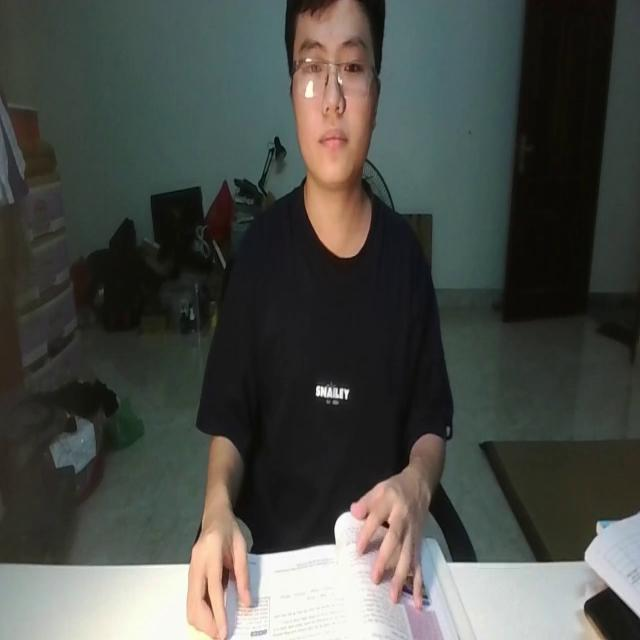book: (224, 508, 477, 640)
student: (184, 0, 453, 636)
